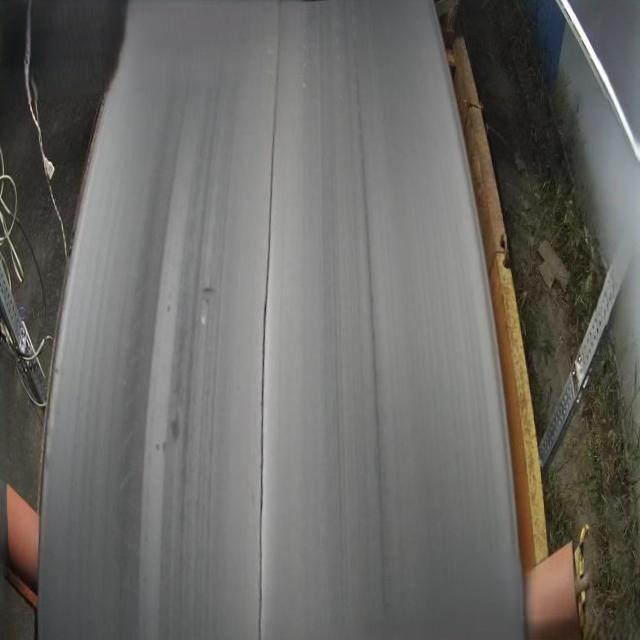Tear: (250, 0, 290, 640)
